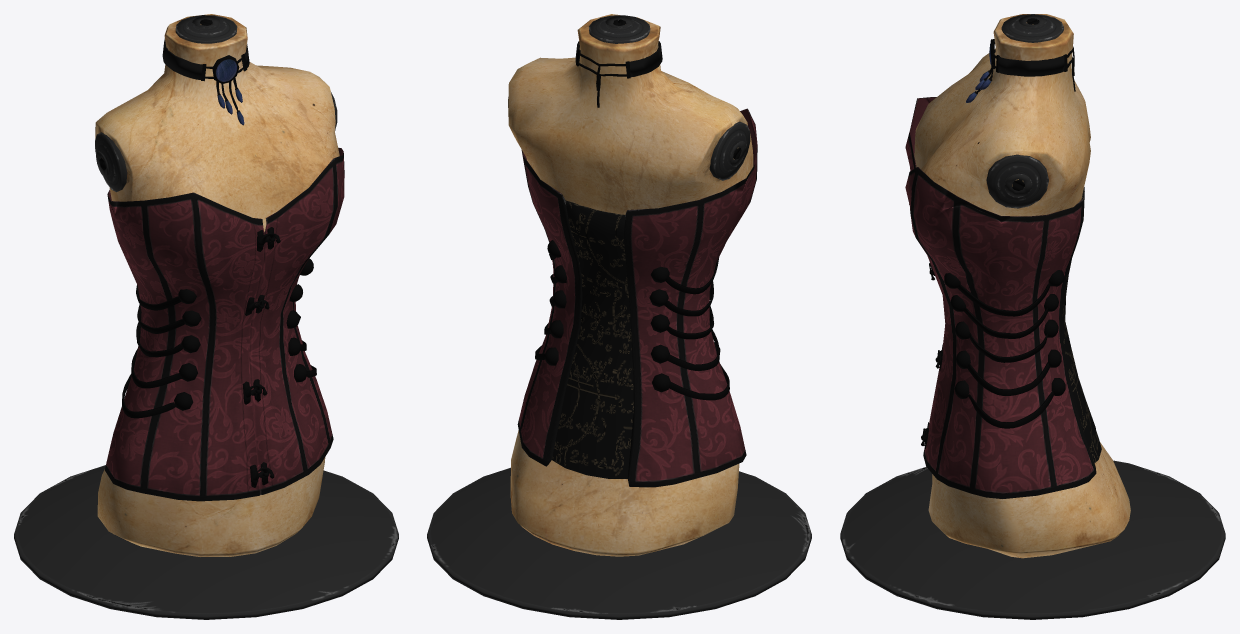
The model's file is testaa.gltf.
3 renders of one model, left to right at view 1: azimuth 30°, elevation 25°; view 2: azimuth 150°, elevation 25°; view 3: azimuth 270°, elevation 25°, orthographic.
Size of the model in its own units: 0.0389 by 0.0578 by 0.0389.
Materials: 1 (1 with a texture image).
